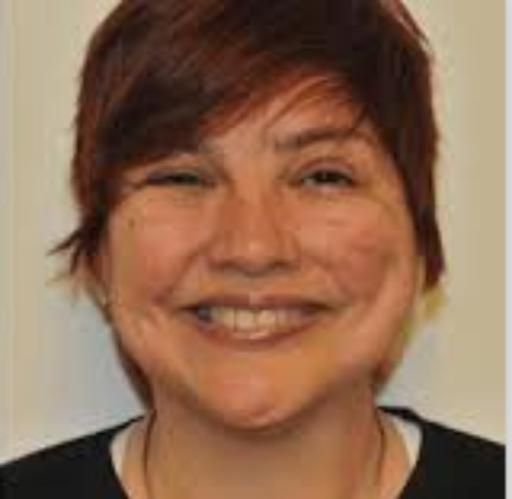left_eye: (291, 169, 363, 196)
left_lip_corner: (306, 297, 342, 320)
right_eye: (145, 172, 218, 196)
right_lip_corner: (175, 299, 202, 324)
